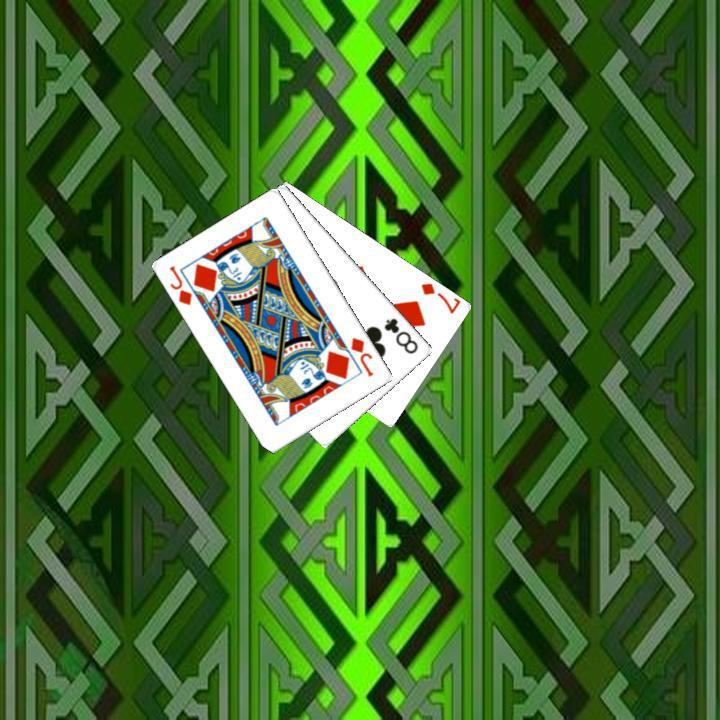7: (417, 278, 462, 316)
8: (380, 313, 420, 356)
J: (165, 261, 195, 308), (346, 333, 376, 379)
